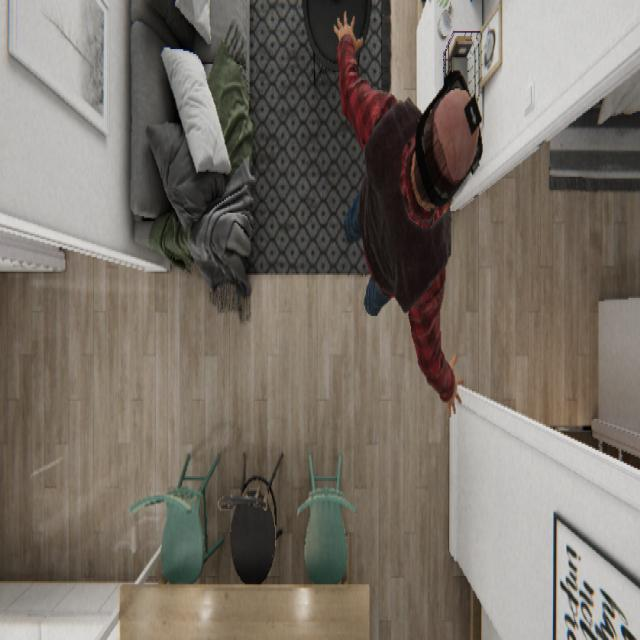Human: (332, 9, 483, 418)
UnityLogo: (463, 92, 482, 134)
